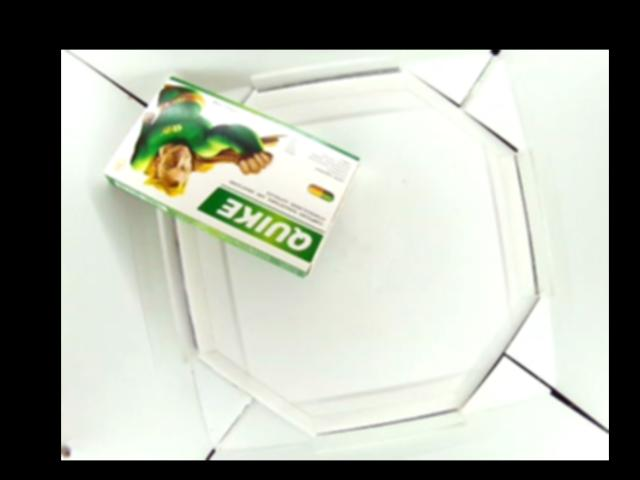Medicine: (103, 72, 358, 279)
